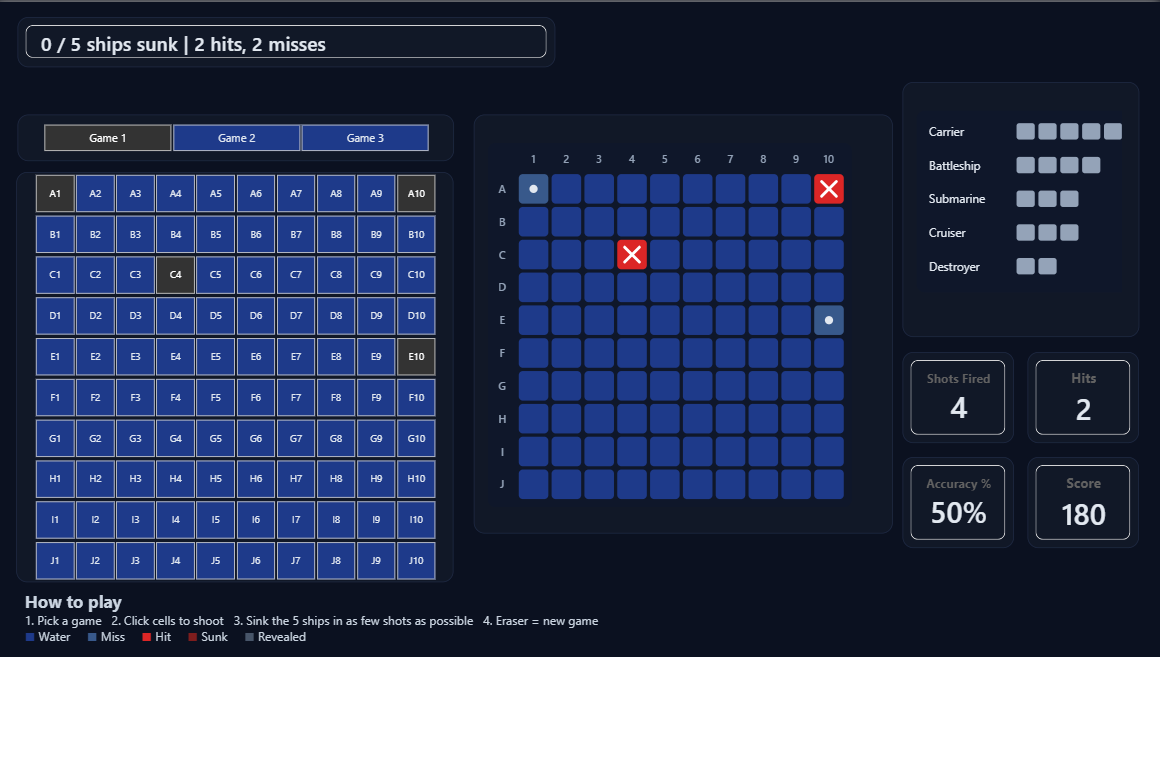

This screenshot's page, from the dashboard's own definition file:
{"tool":"powerbi","page":{"name":"Page 1","canvas":[1920,1080],"ordinal":0},"visuals":[{"type":"slicer","fields":{"Values":["Ships.Game"]},"box":[10.3,0,1381.1,279.9],"z":0},{"type":"slicer","fields":{"Values":["Shots.Cell"]},"box":[10.3,312.9,1854.6,226.4],"z":1},{"type":"tableEx","fields":{"Values":["_Measures.Board SVG"]},"box":[10.3,580.4,537.2,500.2],"z":2},{"type":"tableEx","fields":{"Values":["_Measures.Fleet SVG"]},"box":[938.6,580.4,660.7,500.2],"z":3}]}

Visuals, with their boxes on the page's 1920x1080 design canvas (x1, y1, x2, y2). These are canvas units, not pixel positions in the 1170x766 screenshot, which may show the page scaled, cropped or inside an application window:
slicer - Ships.Game: crop(10, 0, 1391, 280)
slicer - Shots.Cell: crop(10, 313, 1865, 539)
tableEx - _Measures.Board SVG: crop(10, 580, 548, 1081)
tableEx - _Measures.Fleet SVG: crop(939, 580, 1599, 1081)
